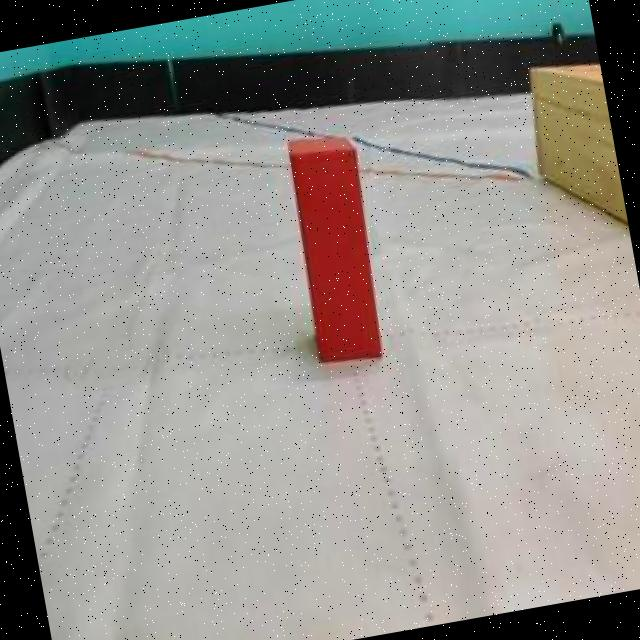redbox: (281, 128, 394, 369)
